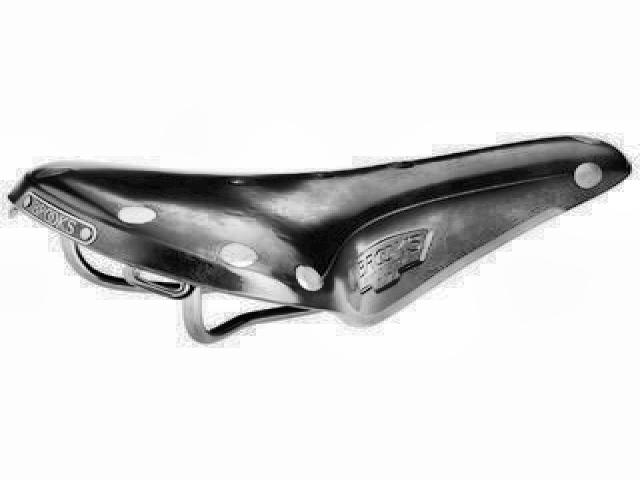saddle: (5, 129, 635, 349)
